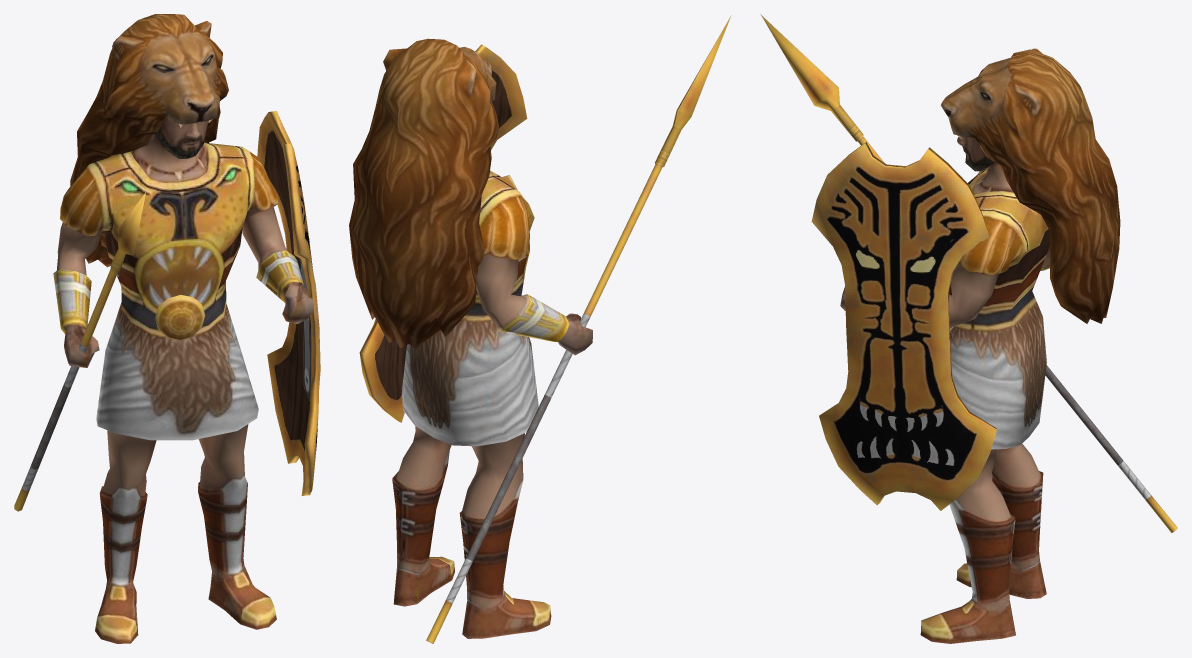
File: 60-ajax.glb
3 renders of one model, left to right at view 1: azimuth 30°, elevation 25°; view 2: azimuth 150°, elevation 25°; view 3: azimuth 270°, elevation 25°, orthographic. The views are drawn at different scales.
Bounding box in the file's own units: 1.22 × 2.69 × 1.82.
Materials: 3 (3 with a texture image).
